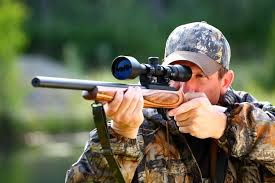rifle: (31, 56, 233, 113)
